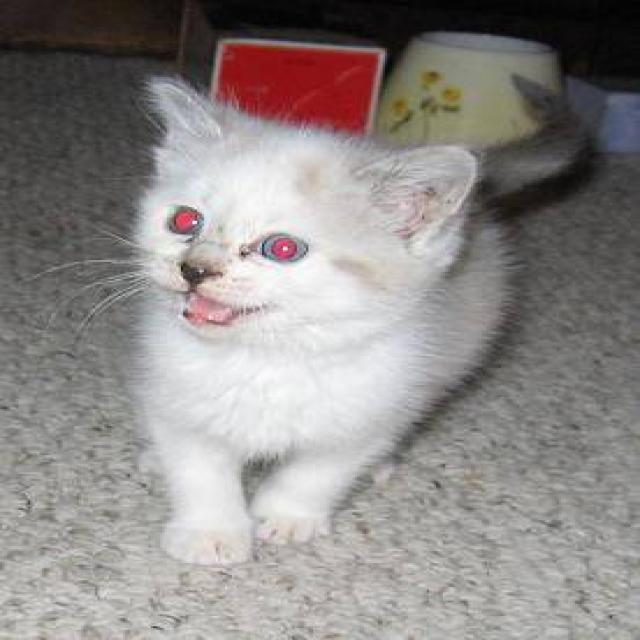cat: (28, 72, 596, 566)
